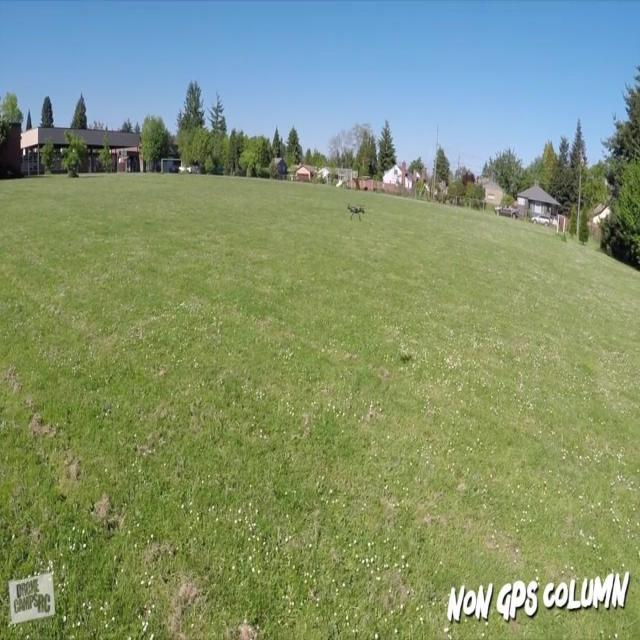drone: (346, 200, 366, 223)
